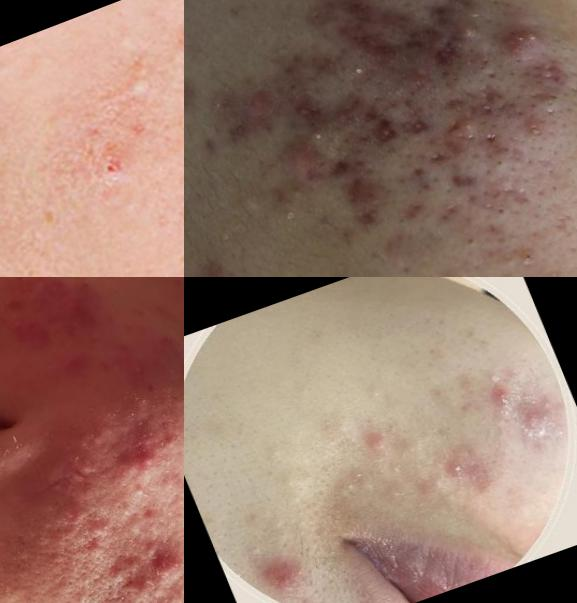blackhead: (235, 74, 288, 125), (509, 230, 563, 276), (531, 82, 573, 121), (486, 192, 522, 230), (454, 227, 495, 256), (82, 513, 117, 543), (86, 543, 107, 565)
cystic: (148, 542, 185, 590)
papular: (255, 550, 316, 601), (97, 545, 159, 593), (460, 456, 509, 505), (118, 443, 165, 490), (19, 311, 59, 355), (364, 421, 407, 459), (118, 568, 164, 603), (67, 449, 106, 490), (523, 399, 560, 439), (123, 349, 157, 387), (444, 452, 475, 487), (41, 278, 73, 304)
sebo-crystan-conglo: (286, 1, 517, 143), (259, 77, 386, 187), (492, 15, 550, 76)
whitehead: (106, 40, 172, 119), (163, 11, 185, 115), (328, 459, 381, 502), (482, 377, 526, 417), (267, 503, 308, 545), (233, 178, 270, 222), (264, 256, 308, 278), (265, 439, 294, 470), (247, 534, 274, 559)
